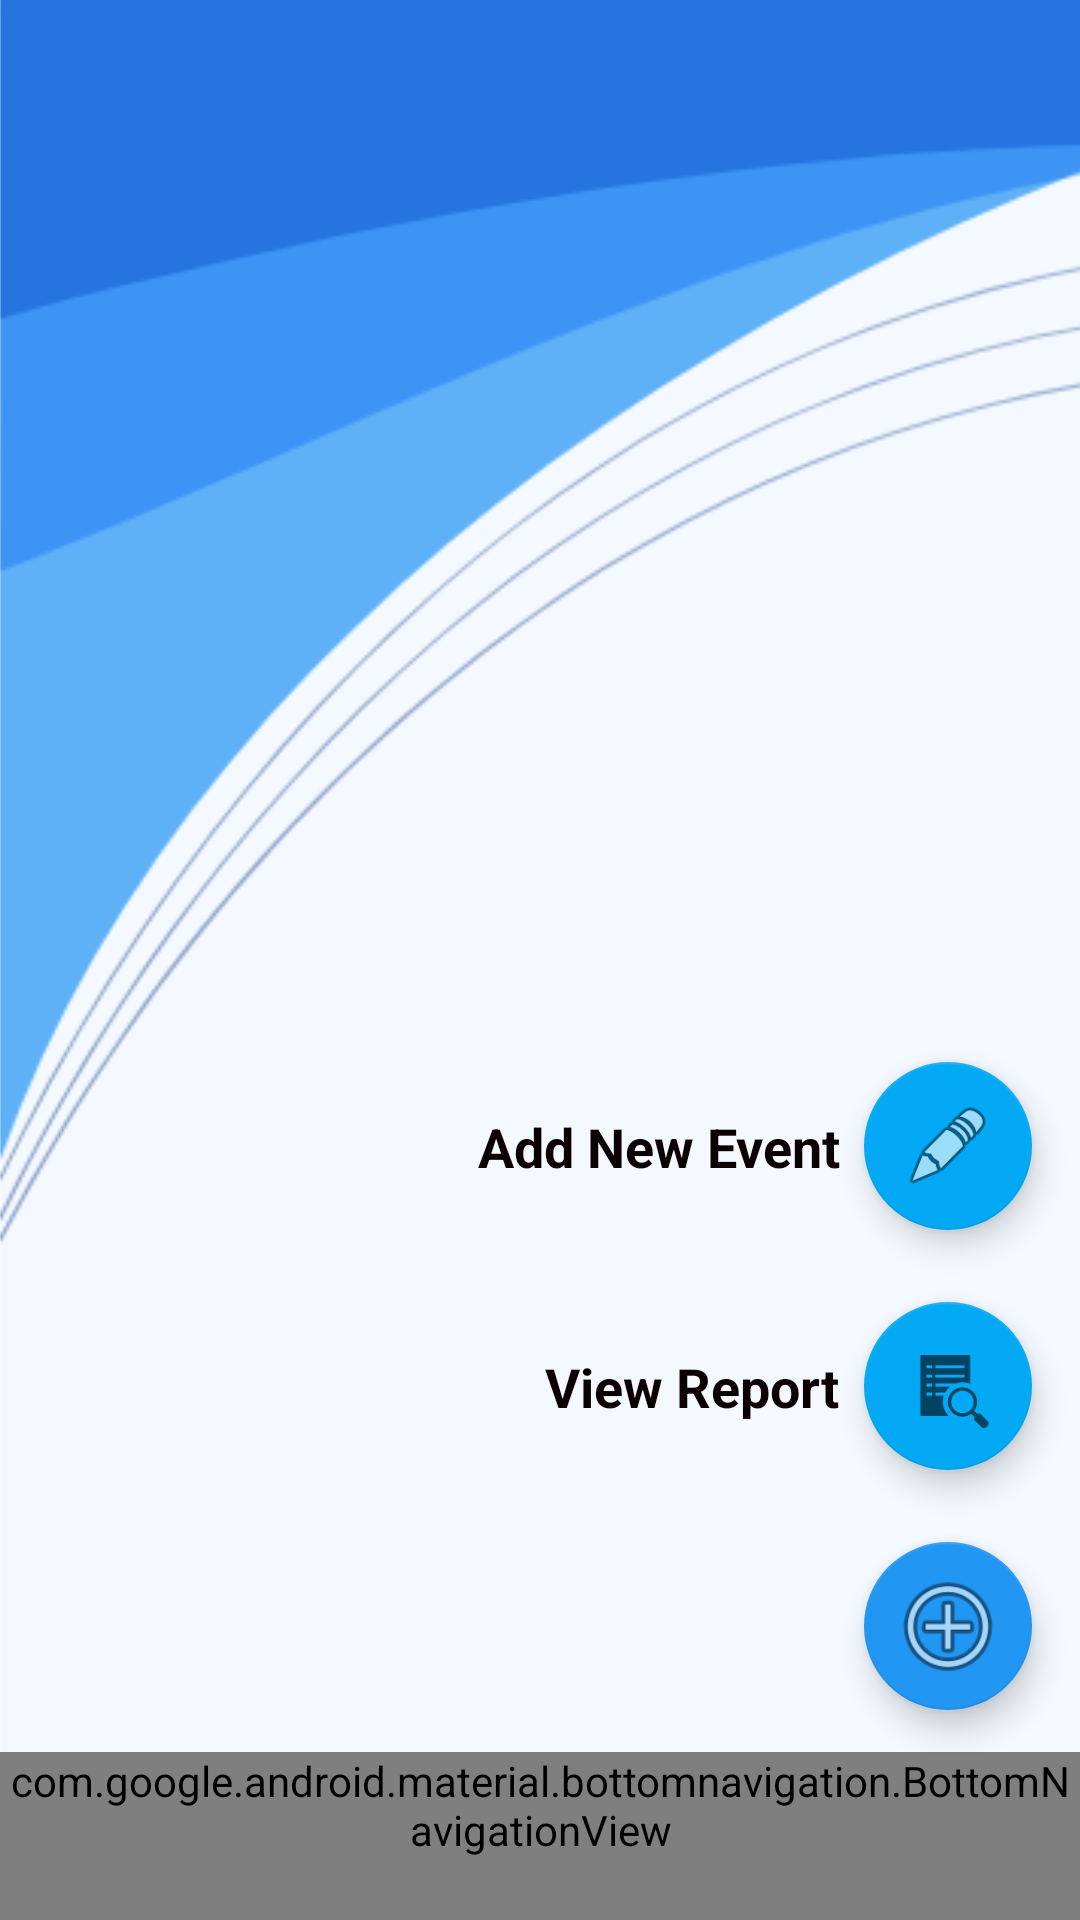

Locate icon controls on the screen. Image size 1080×1920, boxes as (x1, y1, x2, y2).
add: (864, 1542, 1032, 1710)
edit: (864, 1062, 1032, 1230)
